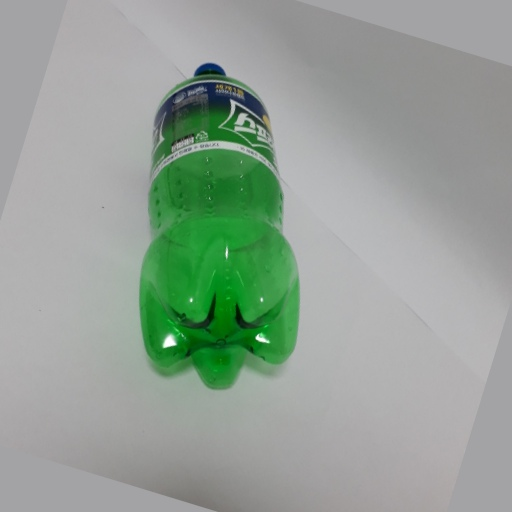Plastic_0: (135, 53, 308, 390)
